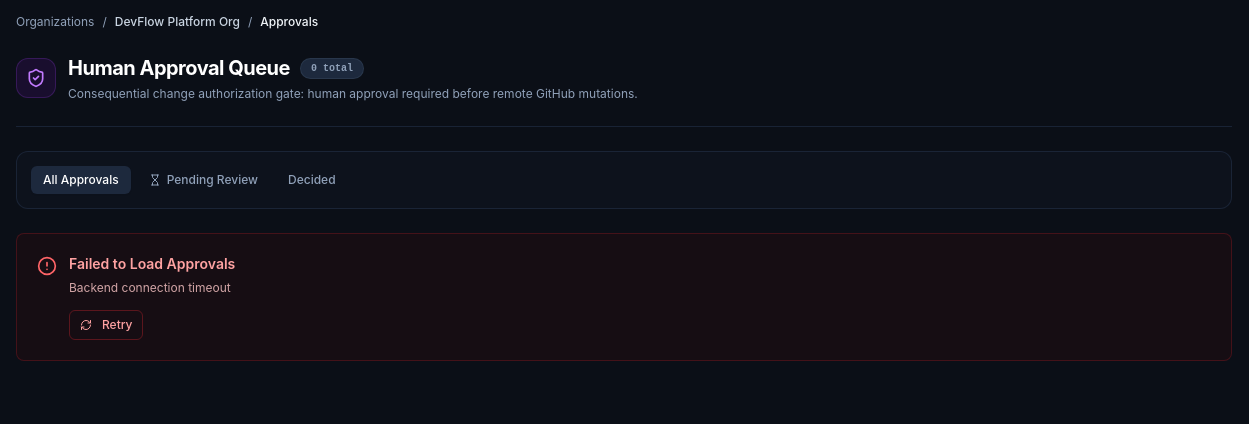
Test: ApprovalsPage › renders error message and allows retry on API error
This screenshot has width=1249, height=424.
expect the heading "Failed to Load Approvals" is shown: met, box [69,255,235,272]
expect the text "Backend connection timeout" is shown: met, box [69,280,231,295]
Click the button "Retry" at (106, 324), box [69,310,144,340]
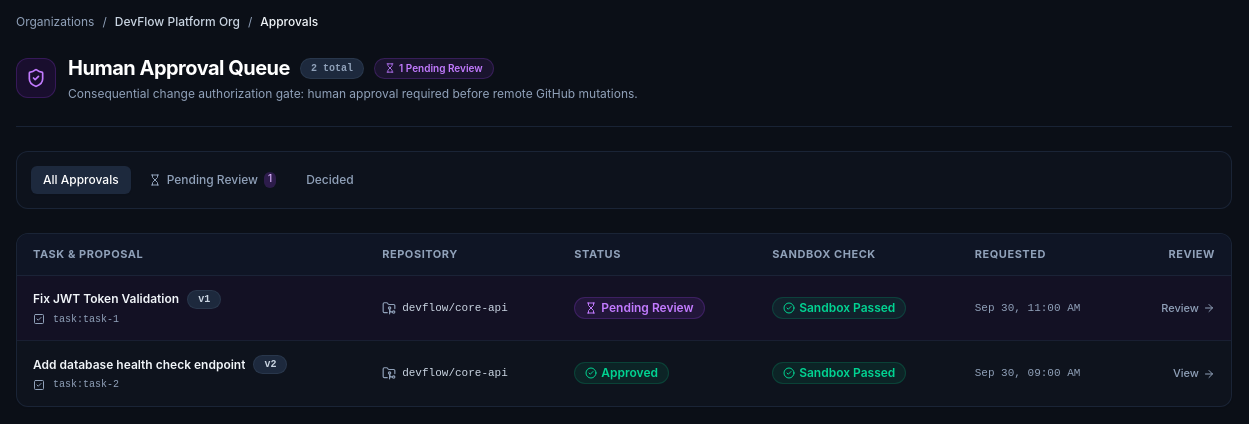
expect the text "Fix JWT Token Validation" is shown: met, box [33,291,179,307]
